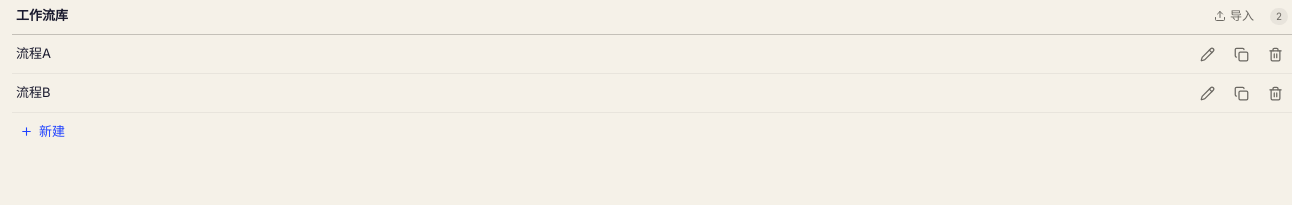
Scenario: WorkflowLibrary 工作流库（应用级） › 新建后列表刷新
Expected: the text "流程A" is shown, [16,45,51,61]
Click the button "新建" at (42, 132), box [12,119,73,144]
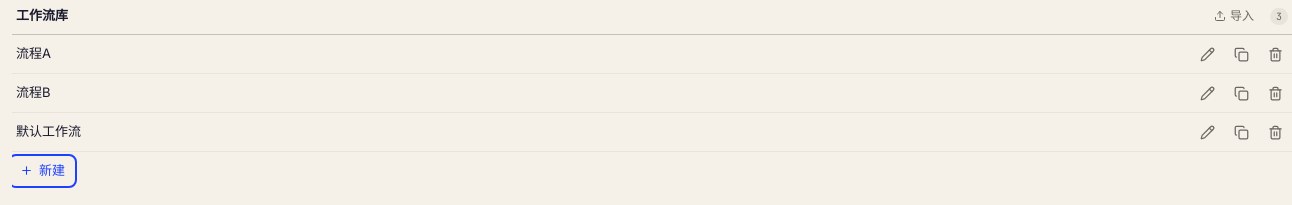
Now the text "默认工作流" is shown, box [16,123,81,139]
